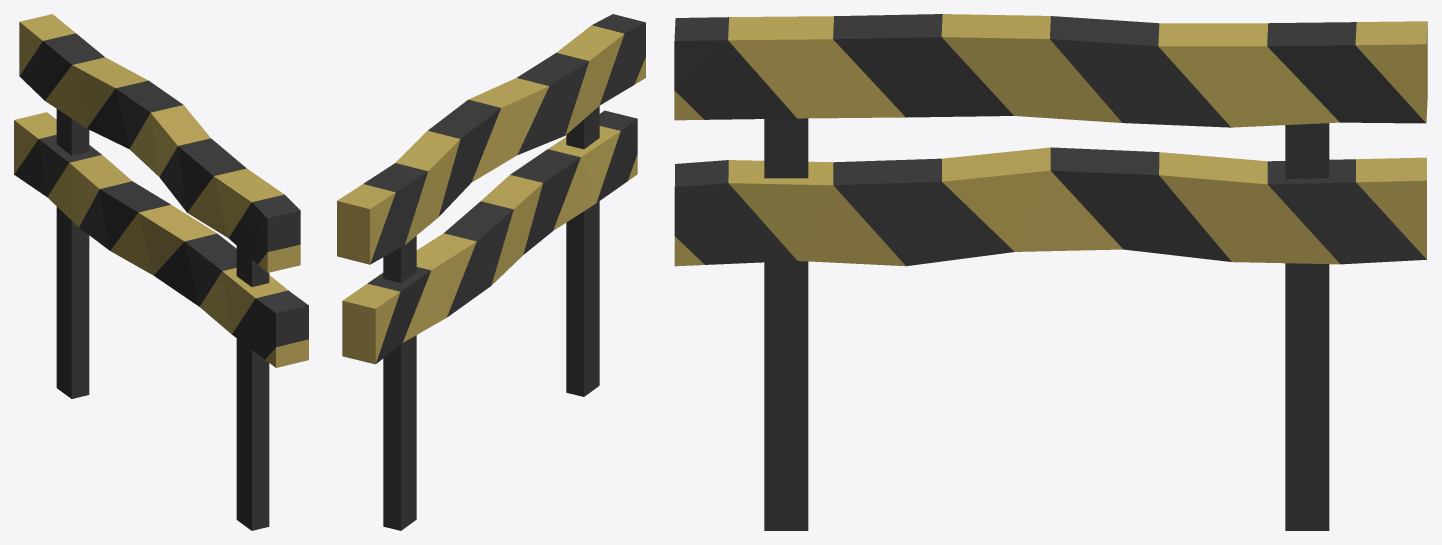
File: traffic_fence_2.fbx
3 views of the same model, side by side, from view 1: azimuth 30°, elevation 25°; view 2: azimuth 150°, elevation 25°; view 3: azimuth 270°, elevation 25° (orthographic). The views are drawn at different scales.
Visible parts, largest first — view 1: traffic_fence_2; view 2: traffic_fence_2; view 3: traffic_fence_2.
Part boxes in pixels (x1,y1,x2,y2): traffic_fence_2: [14, 14, 308, 530]; traffic_fence_2: [337, 14, 645, 530]; traffic_fence_2: [674, 14, 1427, 530].
Bounding box in the file's own units: 48.64 × 309 × 420.
